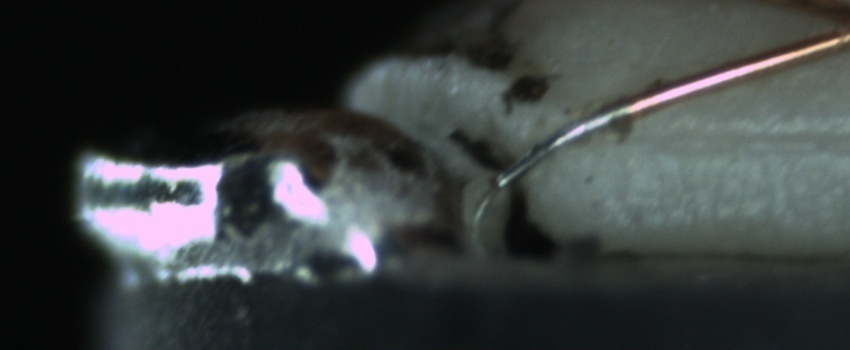DL: (621, 102, 846, 174)
TS: (463, 104, 628, 230)
TTCW: (457, 87, 647, 232)
